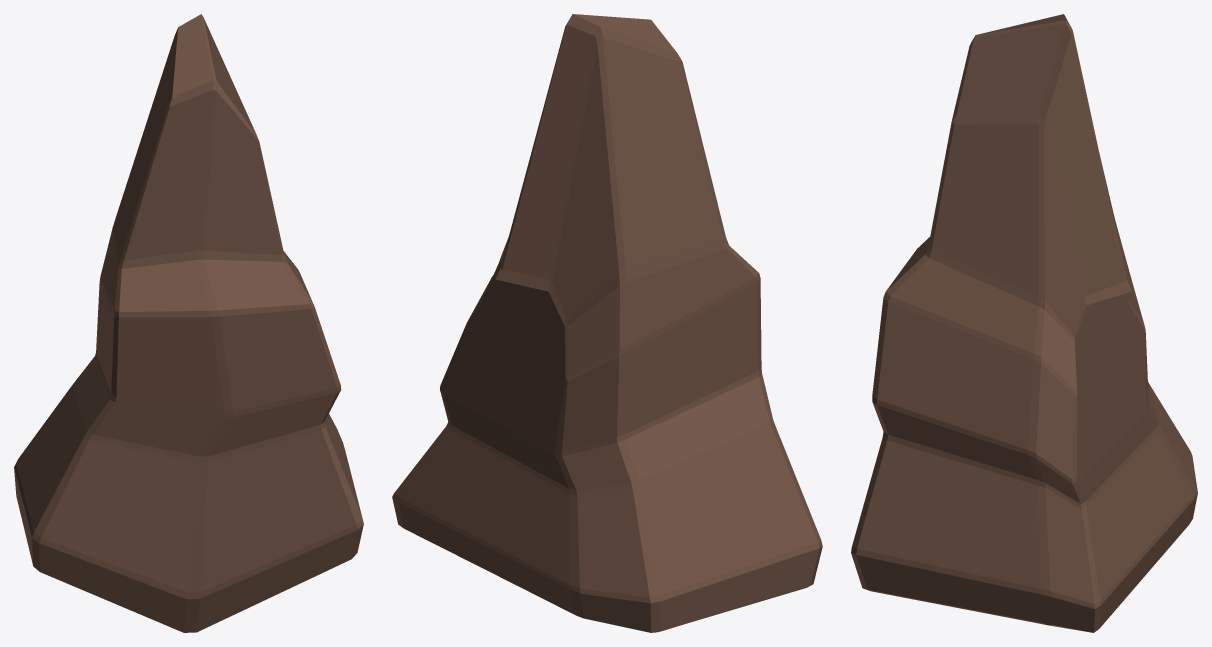
The model's file is rock1.fbx.
3 renders of one model, left to right at view 1: azimuth 30°, elevation 25°; view 2: azimuth 150°, elevation 25°; view 3: azimuth 270°, elevation 25°, orthographic. The views are drawn at different scales.
Visible parts, largest first — view 1: Rock3; view 2: Rock3; view 3: Rock3.
Boxes of the visible parts, box(x1,y1,x2,y2) form: Rock3: box(14, 14, 363, 632); Rock3: box(392, 14, 822, 632); Rock3: box(851, 14, 1197, 632).
Size of the model in its own units: 2387 by 3648 by 1888.
